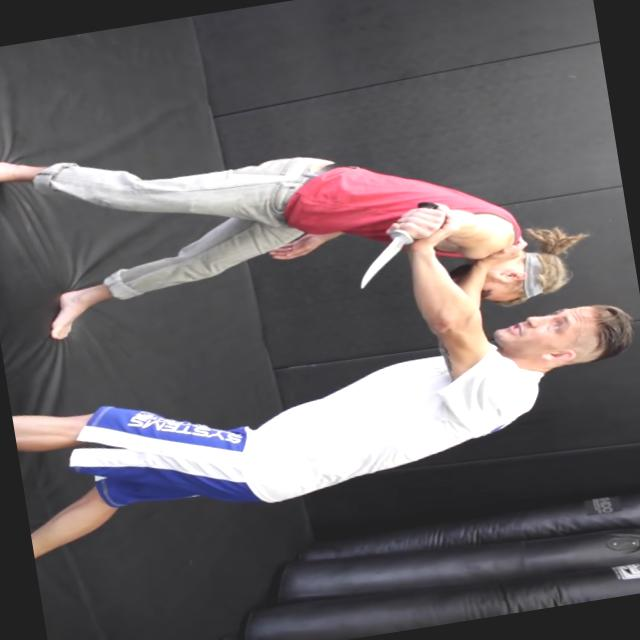knife: (336, 196, 456, 296)
